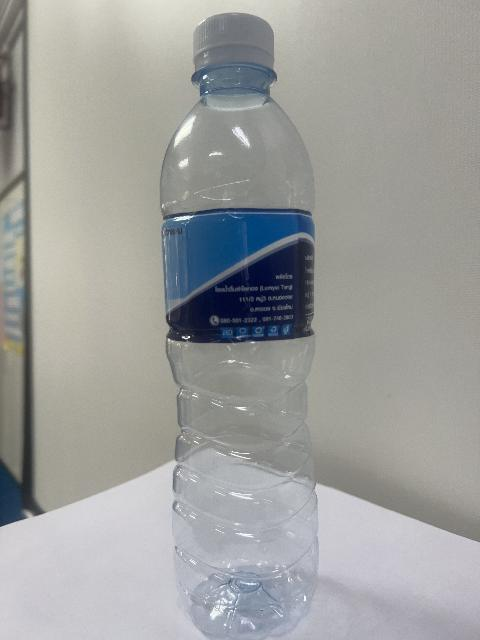bottle: (161, 14, 317, 639)
